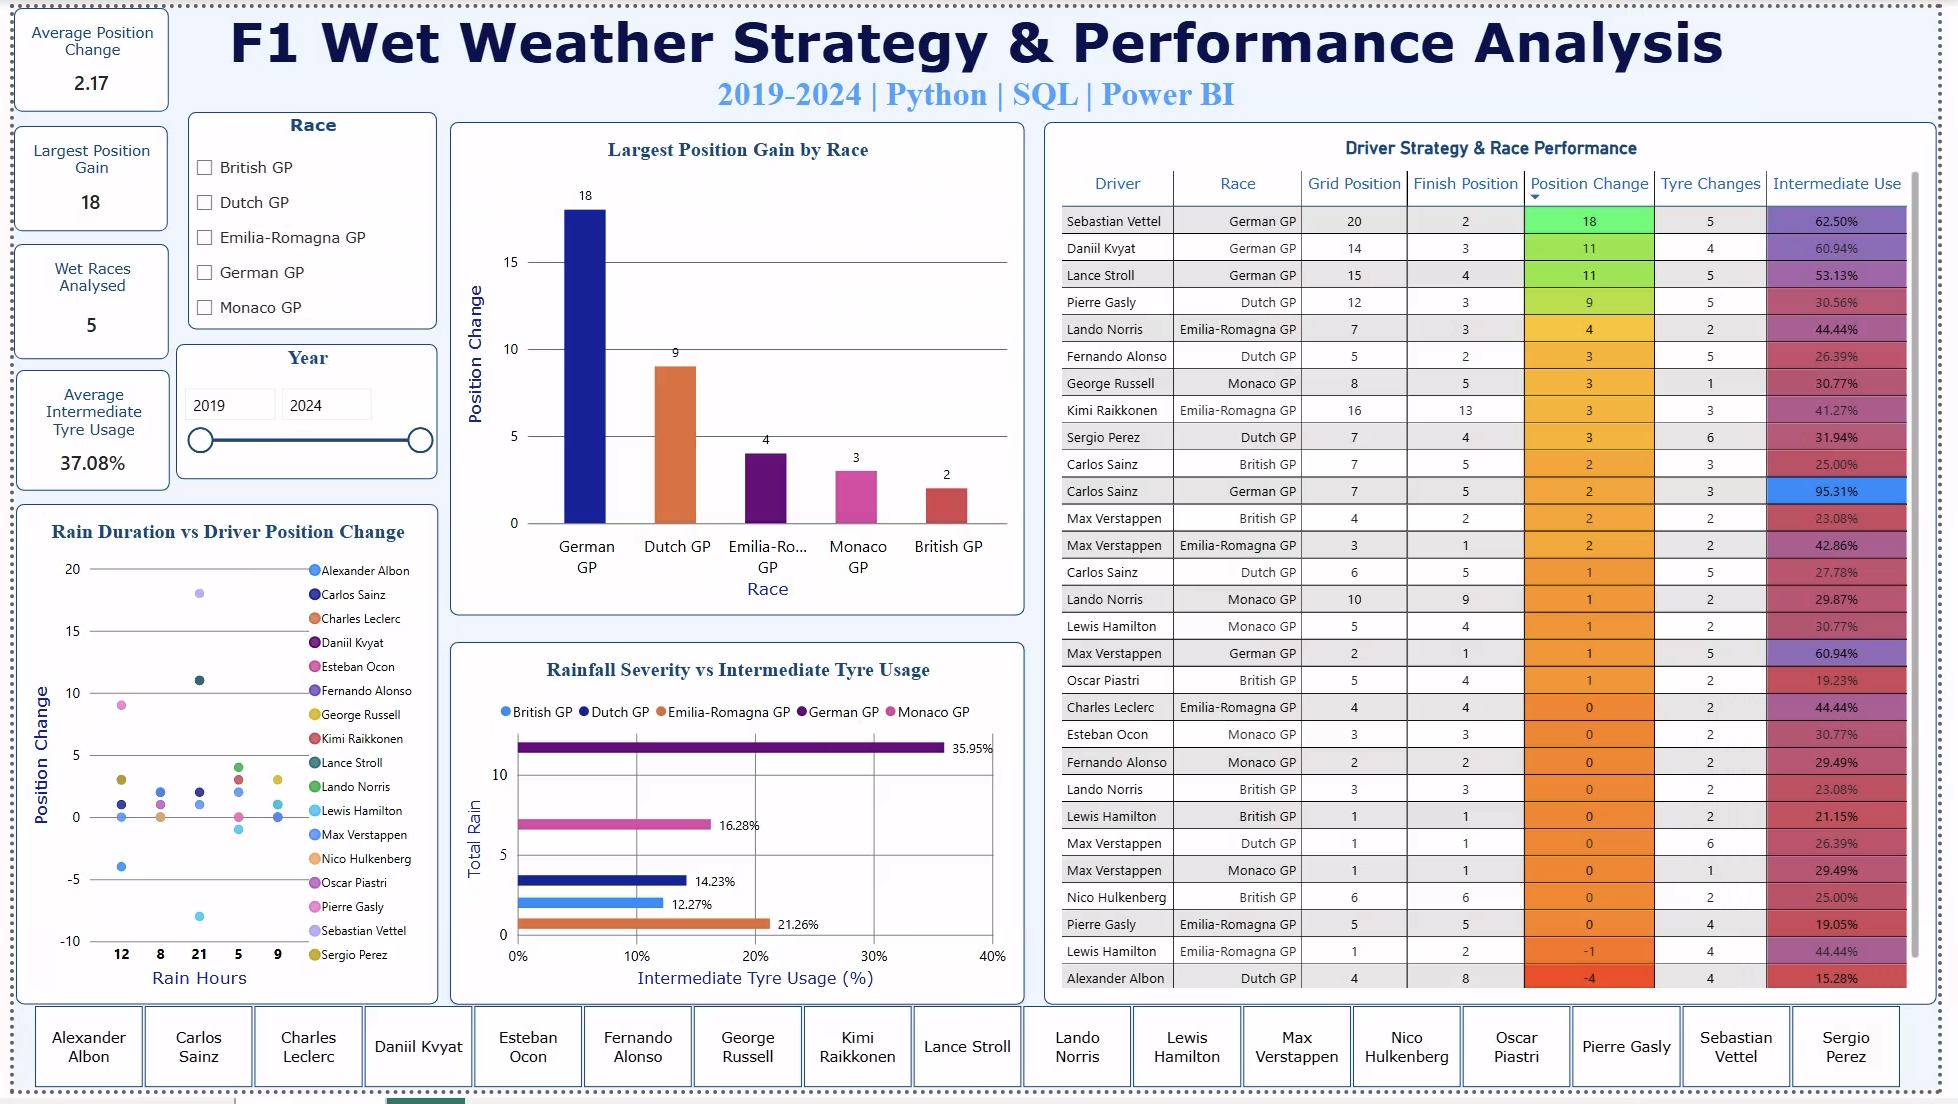

The page's visual inventory and layout, read from the dashboard file:
{"tool":"powerbi","page":{"name":"Page 1","canvas":[1920,1080],"ordinal":0},"visuals":[{"type":"card","title":"Wet Races Analysed","fields":{"Values":["strategy_powerbi.Wet Races"]},"box":[0,235.6,154.7,114.9],"z":0},{"type":"card","title":"Average Position Change","fields":{"Values":["strategy_powerbi.Average Position Change"]},"box":[0,0,154.7,103.6],"z":1000},{"type":"card","title":"Largest Position Gain","fields":{"Values":["strategy_powerbi.Maximum Position Gain"]},"box":[0,117.8,153.3,105],"z":2000},{"type":"card","title":"Average Intermediate Tyre Usage","fields":{"Values":["strategy_powerbi.Average Intermediate Share"]},"box":[1.4,360.4,153.3,120.6],"z":3000},{"type":"barChart","title":"Rainfall Severity vs Intermediate Tyre Usage","fields":{"Category":["races_powerbi.Total_Rain"],"Series":["races_powerbi.Race"],"Y":["Divide(Sum(strategy_powerbi.Intermediate_Share), ScopedEval(Sum(strategy_powerbi.Intermediate_Share), []))"]},"box":[435.7,632.9,573.3,361.9],"z":4000},{"type":"scatterChart","title":"Rain Duration vs Driver Position Change","fields":{"Series":["strategy_powerbi.Driver"],"X":["races_powerbi.Rain_Hours"],"Y":["Sum(strategy_powerbi.Position_Change)"]},"box":[1.4,495.3,421.5,499.5],"z":5000},{"type":"clusteredColumnChart","title":"Largest Position Gain by Race","fields":{"Category":["races_powerbi.Race"],"Y":["Max(strategy_powerbi.Position_Change)"]},"box":[435.7,113.5,573.3,492.4],"z":6000},{"type":"tableEx","title":"Driver Strategy & Race Performance","fields":{"Values":["strategy_powerbi.Driver","races_powerbi.Race","strategy_powerbi.Grid_Position","strategy_powerbi.Finish_Position","strategy_powerbi.Position_Change","strategy_powerbi.Tyre_Changes","strategy_powerbi.Intermediate_Share"]},"box":[1028.8,113.5,891.2,881.2],"z":7000},{"type":"slicer","title":"Year","fields":{"Values":["races_powerbi.Year"]},"box":[161.8,336.3,261.1,134.8],"z":8000},{"type":"slicer","title":"Race","fields":{"Values":["races_powerbi.Race"]},"box":[174.5,103.6,248.3,217.1],"z":9000},{"type":"slicer","title":"Driver","fields":{"Values":["strategy_powerbi.Driver"]},"box":[0,994.8,1901.6,85.1],"z":10000},{"type":"textbox","title":"F1 Wet Weather Strategy & Performance Analysis","box":[207.2,0,1505.6,103.6],"z":11000}]}

Visuals, with their boxes in screenshot pixels (x1, y1, x2, y2), scaled from the page's 1920x1080 canvas onto the 1958x1104 screenshot:
"Wet Races Analysed" card: [x1=0, y1=241, x2=158, y2=358]
"Average Position Change" card: [x1=0, y1=0, x2=158, y2=106]
"Largest Position Gain" card: [x1=0, y1=120, x2=156, y2=228]
"Average Intermediate Tyre Usage" card: [x1=1, y1=368, x2=158, y2=492]
"Rainfall Severity vs Intermediate Tyre Usage" barChart: [x1=444, y1=647, x2=1029, y2=1017]
"Rain Duration vs Driver Position Change" scatterChart: [x1=1, y1=506, x2=431, y2=1017]
"Largest Position Gain by Race" clusteredColumnChart: [x1=444, y1=116, x2=1029, y2=619]
"Driver Strategy & Race Performance" tableEx: [x1=1049, y1=116, x2=1957, y2=1017]
"Year" slicer: [x1=165, y1=344, x2=431, y2=482]
"Race" slicer: [x1=178, y1=106, x2=431, y2=328]
"Driver" slicer: [x1=0, y1=1017, x2=1939, y2=1103]
"F1 Wet Weather Strategy & Performance Analysis" textbox: [x1=211, y1=0, x2=1747, y2=106]
